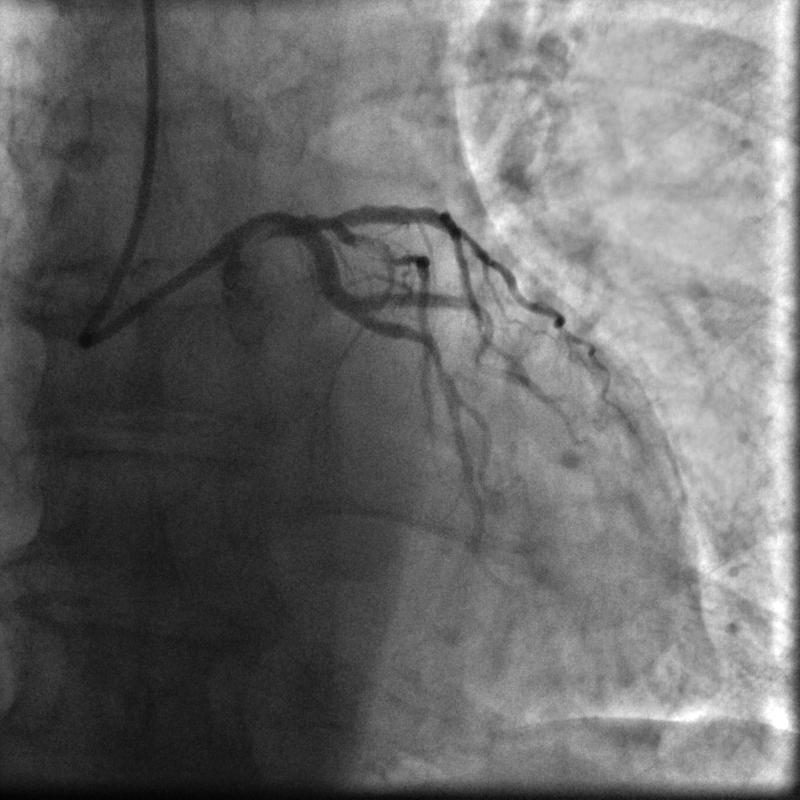Stenosis: (349, 221, 399, 264)
